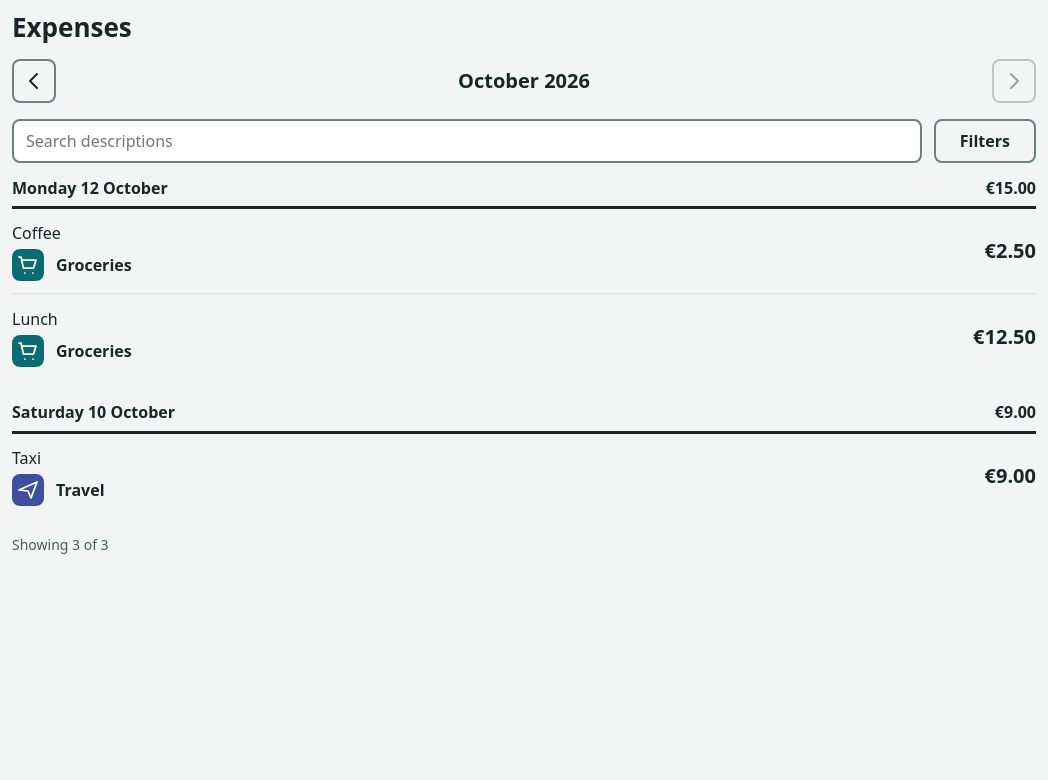
Test: ExpensesView › goes to the previous period and cannot go past today
The image size is (1048, 780).
Expected: the button named "Next period" is disabled, x1=992 y1=59 x2=1036 y2=103
Click the button named "Previous period" at (34, 81), box x1=12 y1=59 x2=56 y2=103
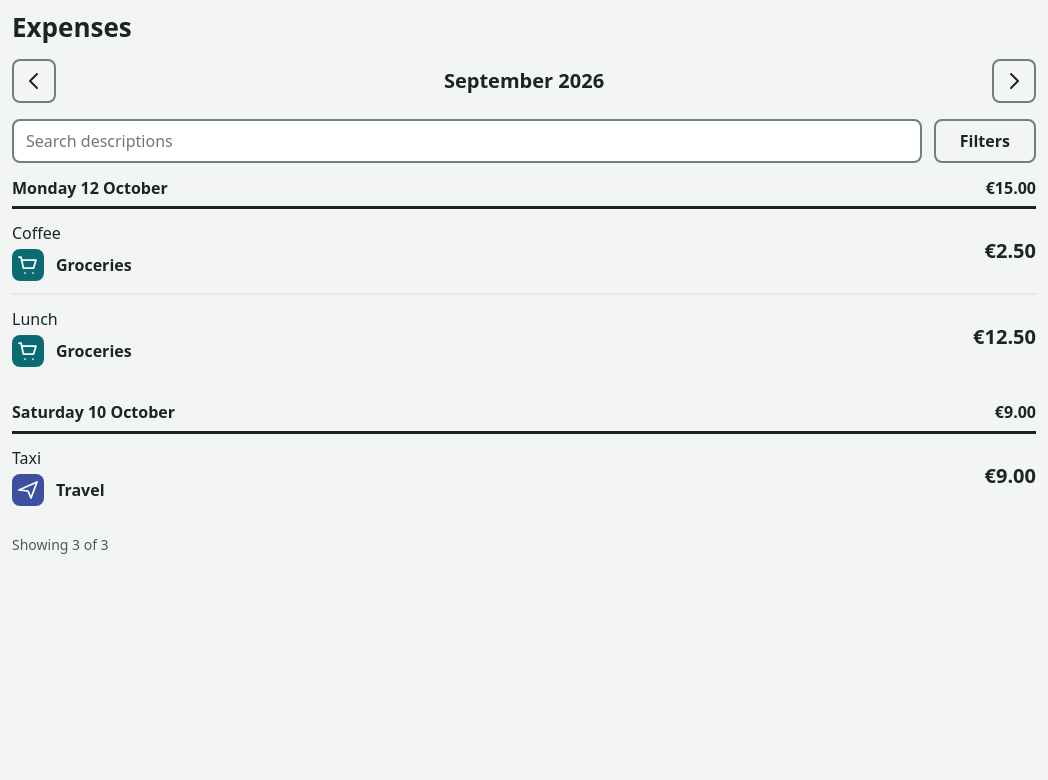
Result: the text "September 2026" is shown at x1=444 y1=67 x2=604 y2=94
Result: the button named "Next period" is enabled at x1=992 y1=59 x2=1036 y2=103
